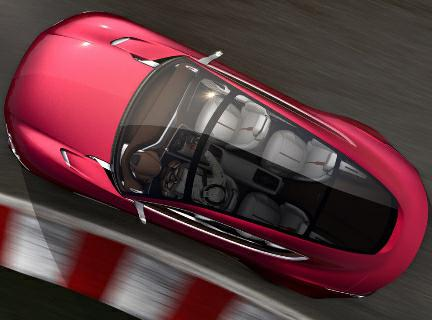名爵-E-motion: (2, 8, 428, 304)
